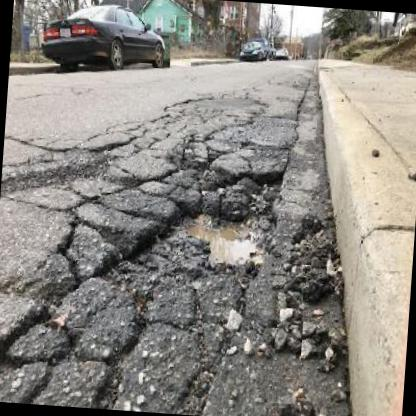pothole: (93, 155, 287, 301)
